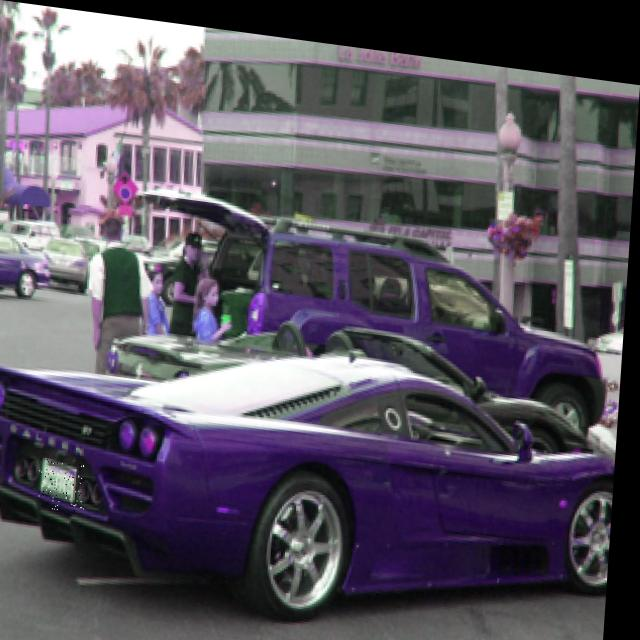license_plate: (43, 455, 94, 510)
